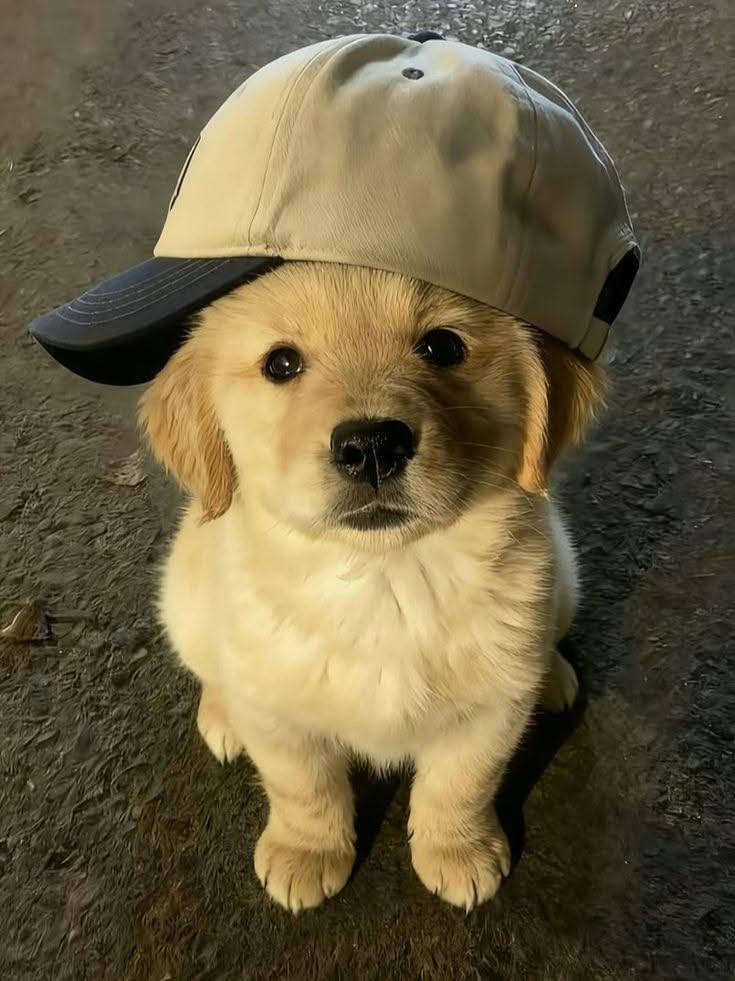puppy-dog: (129, 250, 605, 917)
